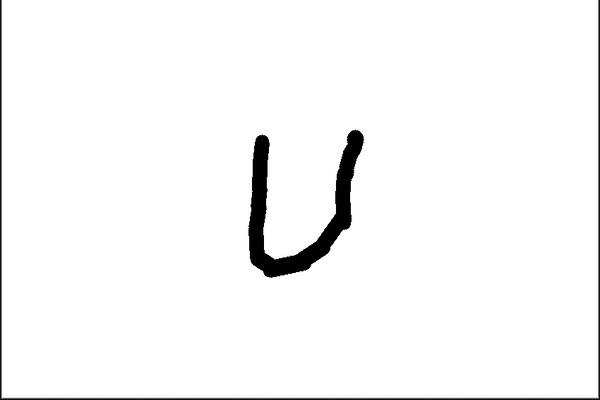U: (233, 123, 374, 285)
